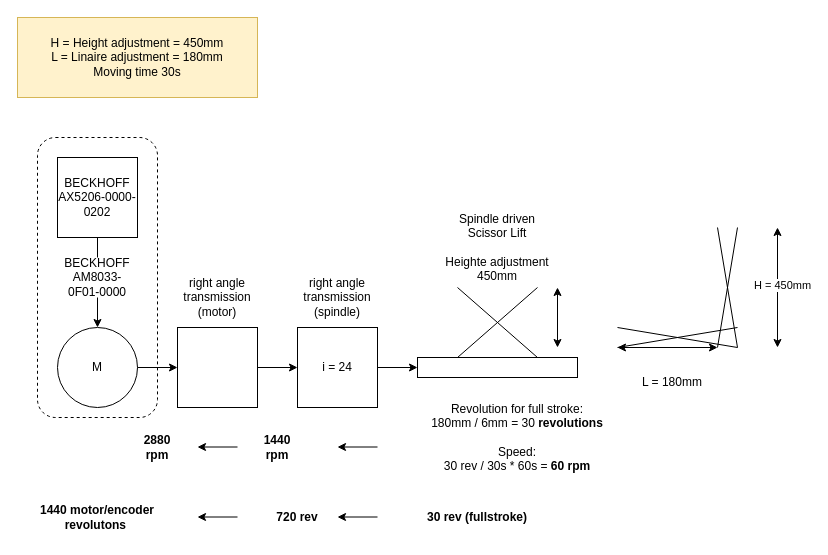
This 828x555 diagram has some shape labels left out. Here are the shapes that lost their labels. From the top down, the centre of each, then its label:
the point at 217,367: i = 2
the point at 497,367: 6mm / rev
